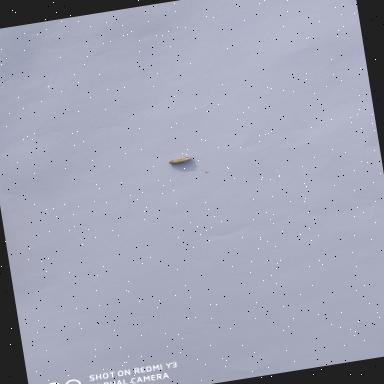pbw: (166, 152, 194, 167)
